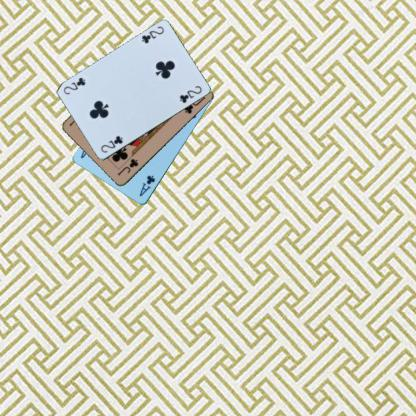2c: (98, 133, 124, 154), (139, 24, 165, 45)
Ac: (137, 172, 157, 198)
Jc: (115, 156, 140, 177)
